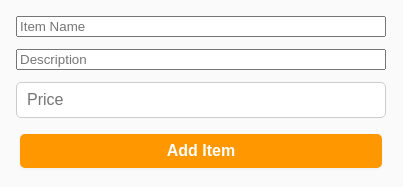
Scenario: AdminForm component › should clear form fields after submission
Type "Test Item" into the field with placeholder "Item Name" at (201, 26), box [16,16,386,37]
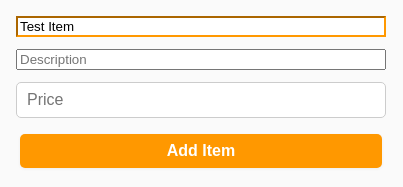
Type "Test Description" into the field with placeholder "Description" at (201, 60), box [16,49,386,70]
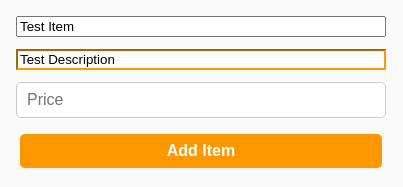
Type "15" into the number field with placeholder "Price" at (201, 100), box [16,82,386,118]
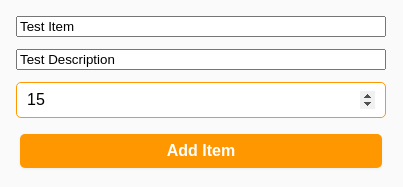
Click the button "Add Item" at (201, 151), box [20,134,382,168]
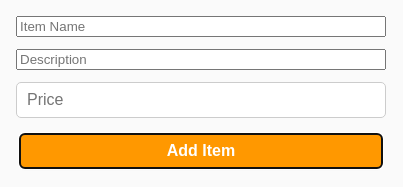
Now the field with placeholder "Item Name" is empty, box [16,16,386,37]
Now the field with placeholder "Description" is empty, box [16,49,386,70]
Now the number field with placeholder "Price" is not empty, box [16,82,386,118]
